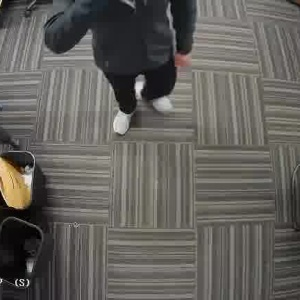person: (86, 0, 193, 131)
